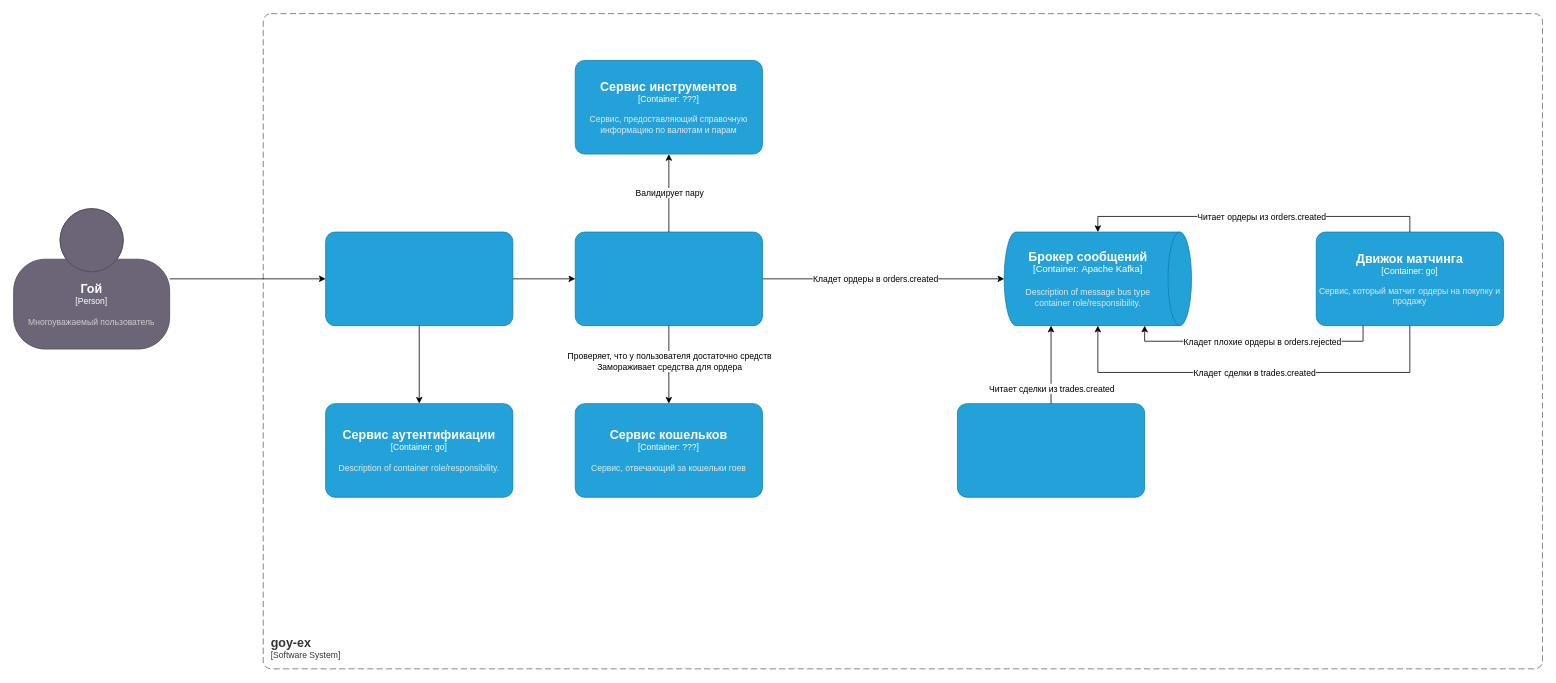
Some shapes in this 1556 by 683 pixel diagram are drawn without their labels. Each missing label, with the centre of its shape:
API gateway [Container: ???] Description of container role/responsibility.: point 419,278
Сервис ордеров [Container: go] Сервис, создающий ордеры: point 668,278
Сервис сделок [Container: ???] Сервис, хранящий сделки: point 1051,450
